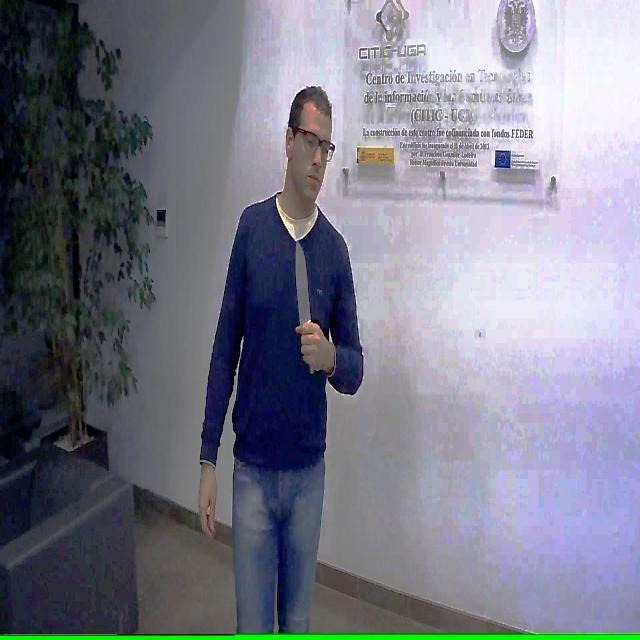Knife: (290, 232, 328, 353)
